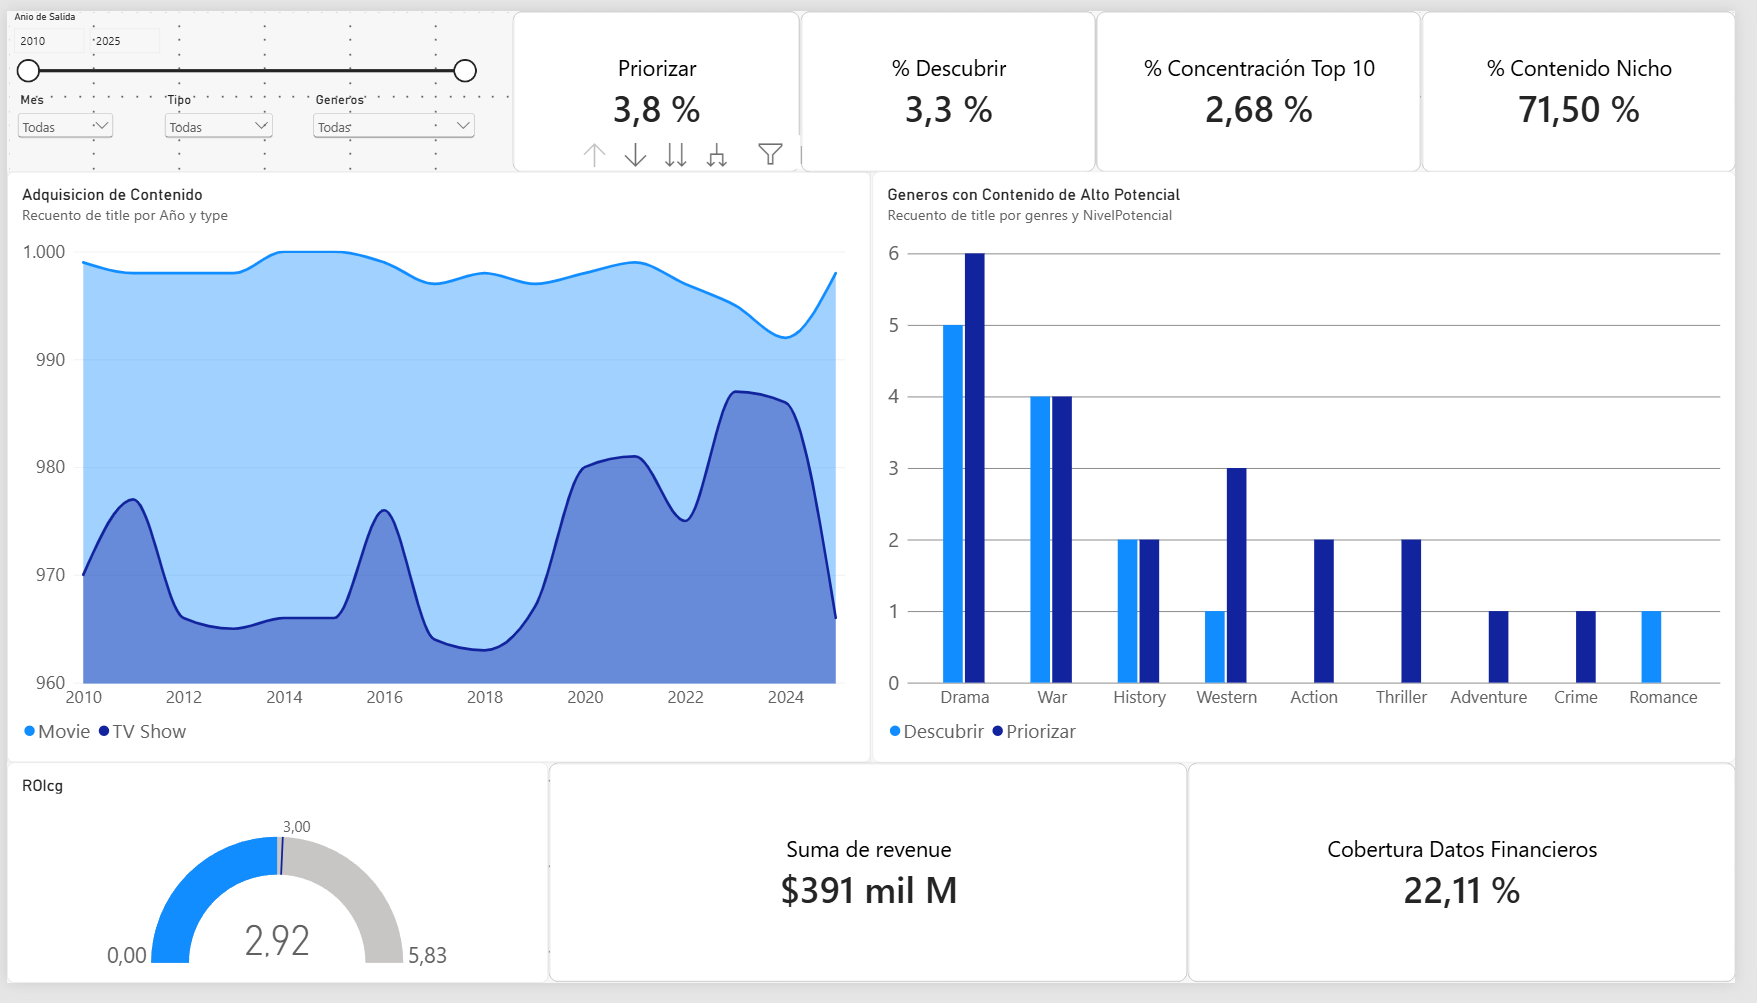

The dashboard page shown, as its layout file describes it:
{"tool":"powerbi","page":{"name":"Dashboard Ejecutivo","canvas":[1920,1080],"ordinal":3},"visuals":[{"type":"cardVisual","fields":{"Data":["CatalogoGlobal.% Alto potencial"]},"box":[561.4,0,319.8,179],"z":0},{"type":"cardVisual","fields":{"Data":["CatalogoGlobal.% Contenido Nicho"]},"box":[1571.2,0,349.4,179],"z":1000},{"type":"areaChart","title":"Adquisicion de Contenido","fields":{"Category":["CatalogoGlobal.date_added.Variación.Jerarquía de fechas.Año","CatalogoGlobal.date_added.Variación.Jerarquía de fechas.Mes"],"Series":["CatalogoGlobal.type"],"Y":["Count(CatalogoGlobal.title)"]},"box":[0,179.1,959.2,656.6],"z":2000},{"type":"cardVisual","fields":{"Data":["CatalogoGlobal.% Dependencia Top 10"]},"box":[1209.7,0,361.5,179],"z":3000},{"type":"cardVisual","fields":{"Data":["CatalogoGlobal.% A descubrir"]},"box":[881.2,0,328.5,179],"z":4000},{"type":"clusteredColumnChart","title":"Generos con Contenido de Alto Potencial","fields":{"Category":["GenerosCG.genres"],"Series":["CatalogoGlobal.NivelPotencial"],"Y":["CountNonNull(CatalogoGlobal.title)"]},"box":[961.2,179.1,959.2,656.6],"z":5000},{"type":"gauge","fields":{"Y":["CatalogoGlobal.ROIcg"]},"box":[0,835.7,601,244.9],"z":6000},{"type":"cardVisual","fields":{"Data":["Sum(CatalogoGlobal.revenue)"]},"box":[601,835.7,710.1,244.9],"z":7000},{"type":"cardVisual","fields":{"Data":["CatalogoGlobal.Cobertura Datos Financieros"]},"box":[1311.2,835.7,609.3,244.9],"z":8000},{"type":"slicer","fields":{"Values":["GenerosCG.genres"]},"box":[335.5,90.4,189.5,73],"z":9000},{"type":"slicer","fields":{"Values":["CatalogoGlobal.type"]},"box":[170.3,90.4,130.4,73],"z":10000},{"type":"slicer","fields":{"Values":["CatalogoGlobal.date_added.Variación.Jerarquía de fechas.Mes"]},"box":[7,90.4,116.5,73],"z":11000},{"type":"slicer","fields":{"Values":["CatalogoGlobal.release_year"]},"box":[0,0,524.9,90.4],"z":12000}]}

Visuals, with their boxes in screenshot pixels (x1, y1, x2, y2), scaled from the page's 1920x1080 canvas onto the 1757x1003 screenshot:
cardVisual - CatalogoGlobal.% Alto potencial: 514:0:806:166
cardVisual - CatalogoGlobal.% Contenido Nicho: 1438:0:1756:166
"Adquisicion de Contenido" areaChart: 0:166:878:776
cardVisual - CatalogoGlobal.% Dependencia Top 10: 1107:0:1438:166
cardVisual - CatalogoGlobal.% A descubrir: 806:0:1107:166
"Generos con Contenido de Alto Potencial" clusteredColumnChart: 880:166:1756:776
gauge - CatalogoGlobal.ROIcg: 0:776:550:1002
cardVisual - Sum(CatalogoGlobal.revenue): 550:776:1200:1002
cardVisual - CatalogoGlobal.Cobertura Datos Financieros: 1200:776:1756:1002
slicer - GenerosCG.genres: 307:84:480:152
slicer - CatalogoGlobal.type: 156:84:275:152
slicer - CatalogoGlobal.date_added.Variación.Jerarquía de fechas.Mes: 6:84:113:152
slicer - CatalogoGlobal.release_year: 0:0:480:84
